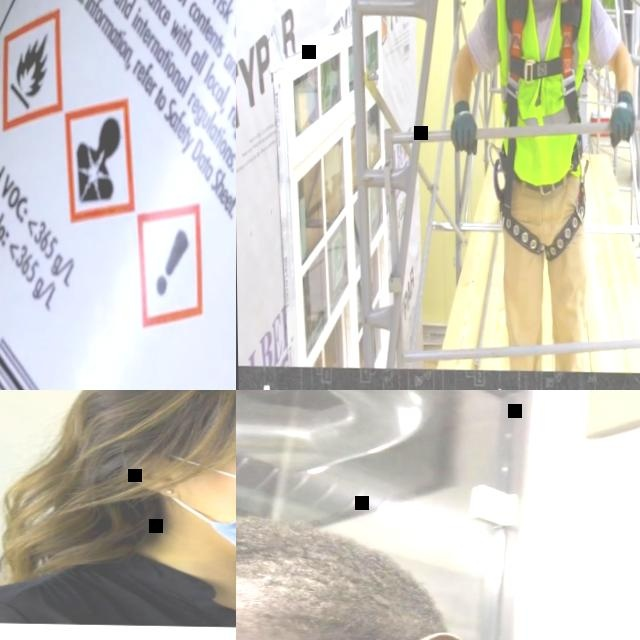Mask: (157, 455, 236, 573)
NO-Hardhat: (236, 508, 443, 640)
NO-Safety Vest: (490, 0, 593, 181), (63, 549, 236, 633)
Person: (439, 0, 640, 370), (0, 390, 236, 632), (236, 505, 640, 640)
